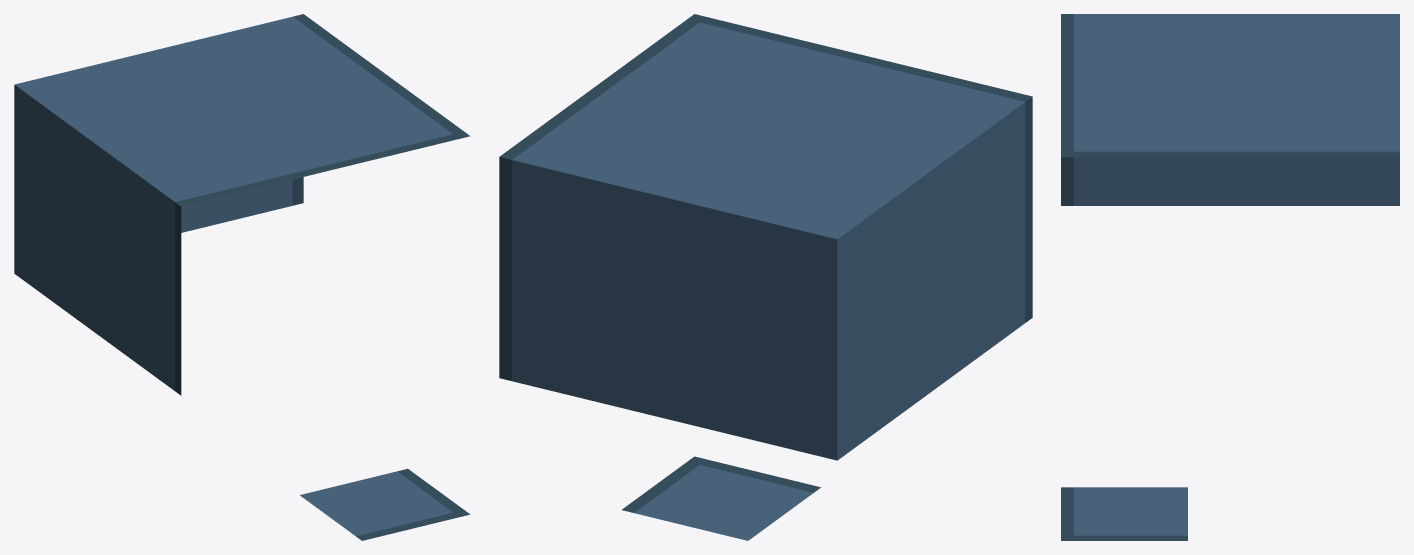
File: M_RoofTrimInMarine20-1.FBX
3 views of the same model, side by side, from view 1: azimuth 30°, elevation 25°; view 2: azimuth 150°, elevation 25°; view 3: azimuth 270°, elevation 25° (orthographic). The views are drawn at different scales.
Visible parts, largest first — view 1: M_RoofTrimInMarine20-1; view 2: M_RoofTrimInMarine20-1; view 3: M_RoofTrimInMarine20-1.
Boxes of the visible parts, bbox=[...] form: M_RoofTrimInMarine20-1: bbox=[14, 14, 470, 540]; M_RoofTrimInMarine20-1: bbox=[499, 14, 1032, 540]; M_RoofTrimInMarine20-1: bbox=[1061, 14, 1399, 540].
Size of the model in its own units: 0.8 by 1 by 0.8.
